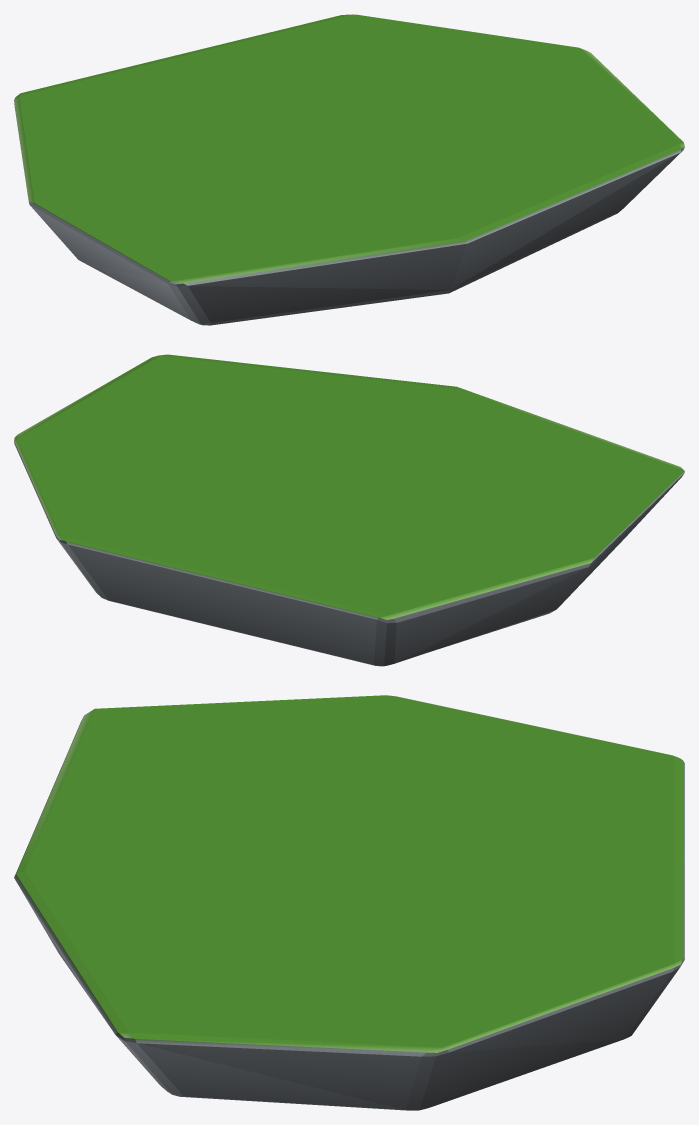
File: Rock_Path_SteppingStone_01.fbx
3 views of the same model, one above another, from view 1: azimuth 30°, elevation 25°; view 2: azimuth 150°, elevation 25°; view 3: azimuth 270°, elevation 25° (orthographic). The views are drawn at different scales.
Visible parts, largest first — view 1: Rock_Path_SteppingStone_01; view 2: Rock_Path_SteppingStone_01; view 3: Rock_Path_SteppingStone_01.
Part boxes in pixels (bbox=[...]): Rock_Path_SteppingStone_01: bbox=[14, 14, 684, 325]; Rock_Path_SteppingStone_01: bbox=[14, 354, 684, 666]; Rock_Path_SteppingStone_01: bbox=[14, 695, 684, 1110].
Bounding box in the file's own units: 237 × 28 × 189.
